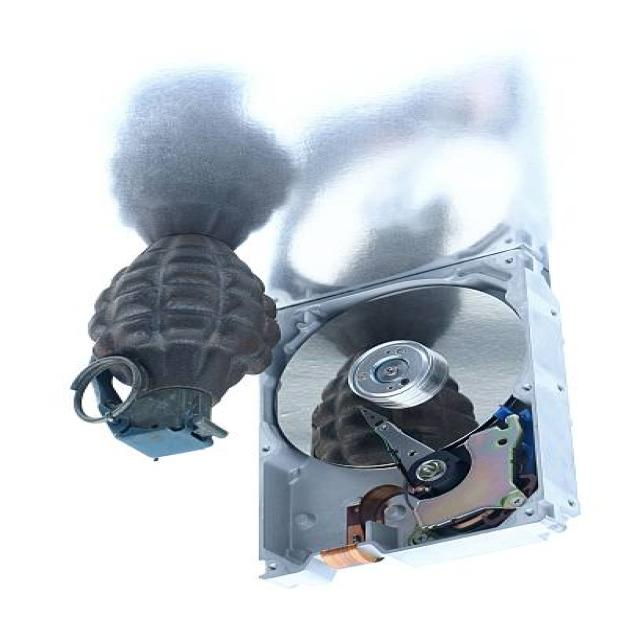grenade: (57, 230, 288, 467)
